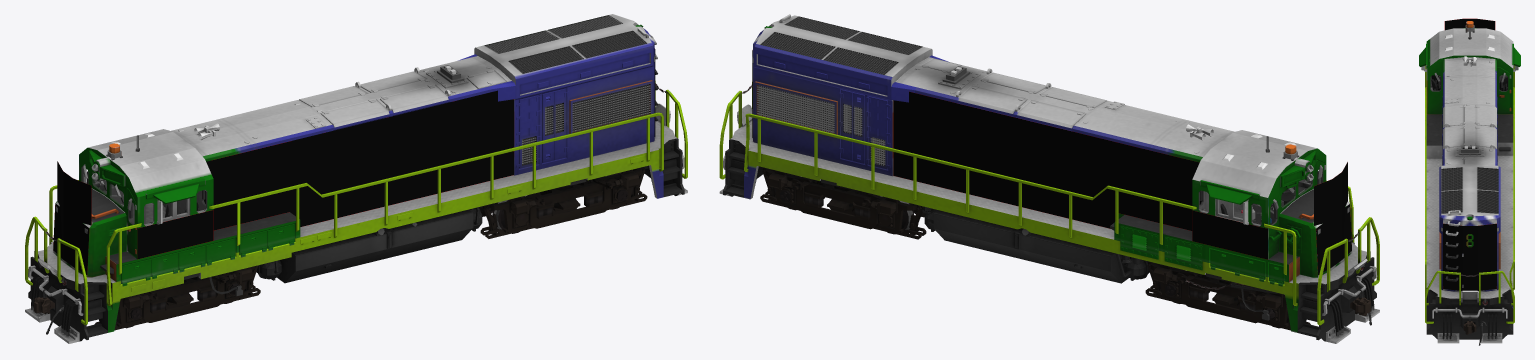
3 views of the same model, side by side, from view 1: azimuth 30°, elevation 25°; view 2: azimuth 150°, elevation 25°; view 3: azimuth 270°, elevation 25° (orthographic). The views are drawn at different scales.
Parts seen in each view (by area): view 1: Plane_Plane.003, SHELL.009_Cube.1907, FRAME.003_Cube.1968, SHELL.007_Cube.1909, SHELL.008_Cube.1908, FUEL_TANK.001_Cube.1963, BOGEY_REAR, BOGEY_FRONT, Cube.019_Cube.1982, SHELL.006_Cube.1910, SHELL.010_Cube.1906, Cube.022_Cube.1981 (+11 smaller); view 2: Plane_Plane.003, SHELL.009_Cube.1907, FRAME.003_Cube.1968, SHELL.008_Cube.1908, SHELL.007_Cube.1909, FUEL_TANK.001_Cube.1963, BOGEY_REAR, BOGEY_FRONT, SHELL.006_Cube.1910, Cube.019_Cube.1982, SHELL.011_Cube.1905, Cube.022_Cube.1981 (+10 smaller); view 3: FRAME.003_Cube.1968, SHELL.009_Cube.1907, SHELL.008_Cube.1908, Plane_Plane.003, SHELL.007_Cube.1909, Cube.019_Cube.1982, SHELL.006_Cube.1910, Cube.005_Cube.1987, Cube.010_Cube.1985, DOOR_1_CONNECTING_Cube.1976, CG_HiNose_HIDE_Plane.004, Plow_+_steps.000_Cube.1920 (+12 smaller).
Boxes of the visible parts, x1,y1,x2,y2 form: Plane_Plane.003: [53, 48, 655, 274]; SHELL.009_Cube.1907: [171, 14, 654, 175]; FRAME.003_Cube.1968: [28, 121, 684, 341]; SHELL.007_Cube.1909: [299, 69, 568, 168]; SHELL.008_Cube.1908: [79, 129, 213, 258]; FUEL_TANK.001_Cube.1963: [277, 208, 473, 283]; BOGEY_REAR: [479, 167, 647, 238]; BOGEY_FRONT: [88, 265, 260, 330]; Cube.019_Cube.1982: [485, 15, 646, 73]; SHELL.006_Cube.1910: [105, 53, 650, 281]; SHELL.010_Cube.1906: [121, 224, 294, 286]; Cube.022_Cube.1981: [522, 84, 650, 165]; Plane_Plane.003: [752, 50, 1351, 275]; SHELL.009_Cube.1907: [753, 15, 1234, 218]; FRAME.003_Cube.1968: [723, 120, 1376, 341]; SHELL.008_Cube.1908: [1192, 130, 1326, 259]; SHELL.007_Cube.1909: [838, 59, 1124, 169]; FUEL_TANK.001_Cube.1963: [933, 209, 1128, 283]; BOGEY_REAR: [760, 167, 926, 239]; BOGEY_FRONT: [1145, 261, 1317, 330]; SHELL.006_Cube.1910: [756, 54, 1301, 282]; Cube.019_Cube.1982: [761, 17, 921, 74]; SHELL.011_Cube.1905: [1120, 226, 1284, 286]; Cube.022_Cube.1981: [757, 85, 885, 165]; FRAME.003_Cube.1968: [1426, 155, 1513, 339]; SHELL.009_Cube.1907: [1439, 57, 1500, 291]; SHELL.008_Cube.1908: [1426, 28, 1513, 114]; Plane_Plane.003: [1443, 223, 1496, 290]; SHELL.007_Cube.1909: [1442, 96, 1497, 287]; Cube.019_Cube.1982: [1441, 168, 1498, 213]; SHELL.006_Cube.1910: [1426, 114, 1513, 158]; Cube.005_Cube.1987: [1425, 87, 1514, 305]; Cube.010_Cube.1985: [1425, 271, 1514, 323]; DOOR_1_CONNECTING_Cube.1976: [1497, 67, 1510, 113]; CG_HiNose_HIDE_Plane.004: [1444, 18, 1495, 30]; Plow_+_steps.000_Cube.1920: [1437, 333, 1502, 343].
Size of the model in its own units: 19 by 4.98 by 3.53.
8 materials, 7 textured.
